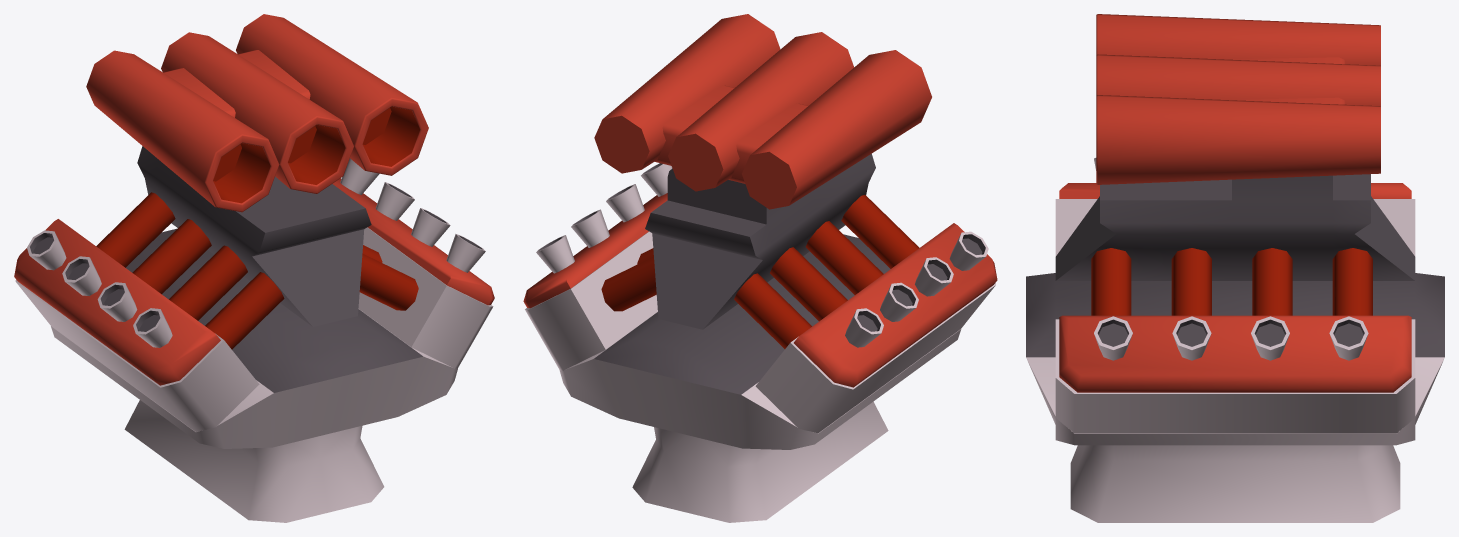
Rendered from engine3.fbx.
3 renders of one model, left to right at view 1: azimuth 30°, elevation 25°; view 2: azimuth 150°, elevation 25°; view 3: azimuth 270°, elevation 25°, orthographic. The views are drawn at different scales.
Visible parts, largest first — view 1: Cube.005; view 2: Cube.005; view 3: Cube.005.
Boxes of the visible parts, box(x1,y1,x2,y2) form: Cube.005: box(14, 14, 494, 522); Cube.005: box(523, 14, 997, 522); Cube.005: box(1026, 14, 1444, 522).
Size of the model in its own units: 6.2 by 6.6 by 5.83.
Materials: 1 (1 with a texture image).
